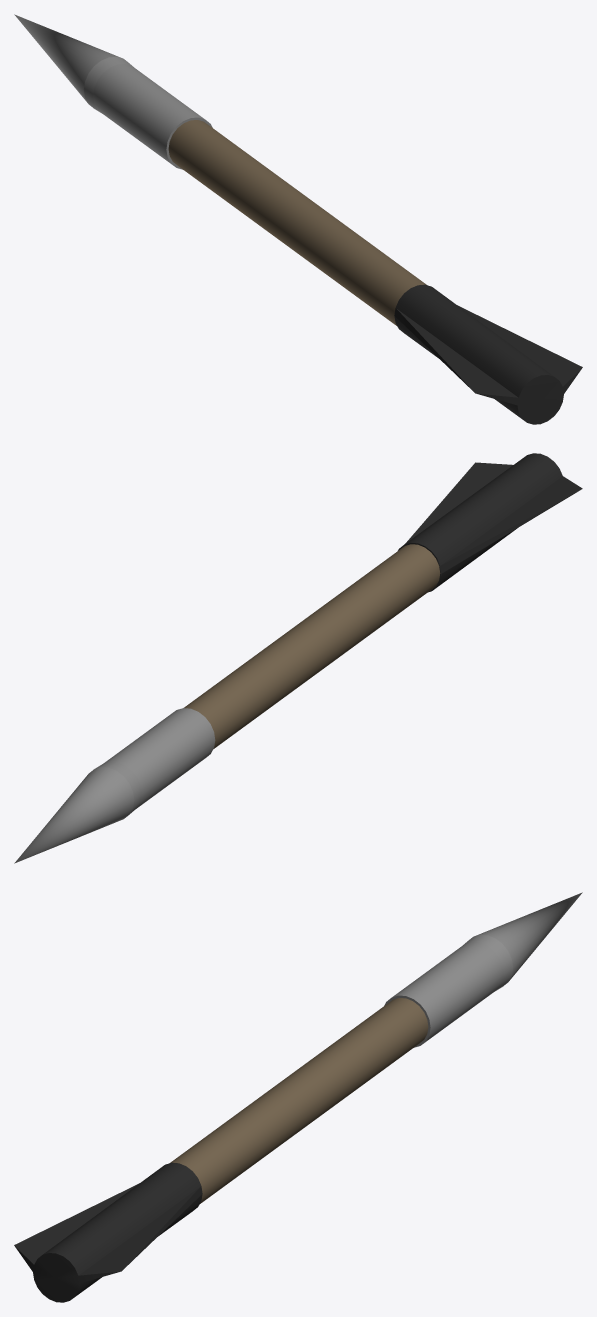
Rendered from bolt_mesh.fbx.
3 renders of one model, top to bottom at view 1: azimuth 30°, elevation 25°; view 2: azimuth 150°, elevation 25°; view 3: azimuth 330°, elevation 25°, orthographic.
Parts seen in each view (by area): view 1: bolt_shaft_fletching, bolt_tip; view 2: bolt_shaft_fletching, bolt_tip; view 3: bolt_shaft_fletching, bolt_tip.
Part boxes in pixels (box(x1,y1,x2,y2)): bolt_shaft_fletching: box(168, 120, 582, 424); bolt_tip: box(14, 14, 212, 169); bolt_shaft_fletching: box(184, 453, 582, 748); bolt_tip: box(14, 708, 215, 863); bolt_shaft_fletching: box(14, 998, 428, 1302); bolt_tip: box(384, 892, 582, 1047).
Bounding box in the file's own units: 0.392 × 0.1839 × 3.33.
